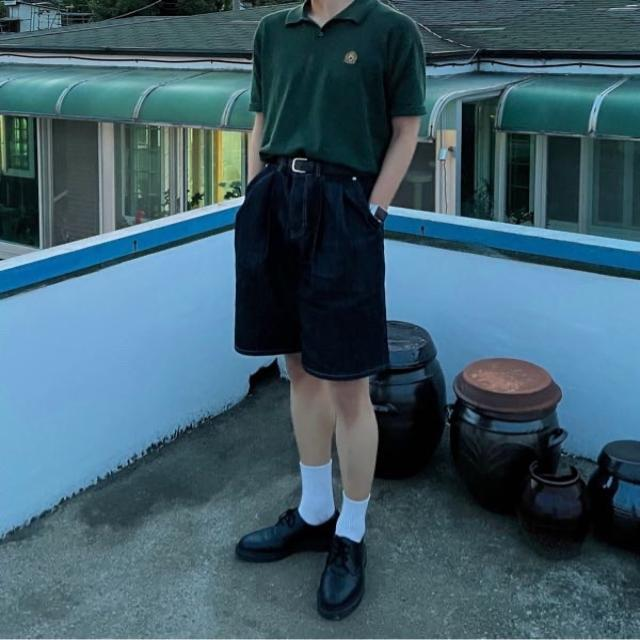shortpants: (233, 164, 386, 382)
shortsleeve: (246, 0, 427, 174)
